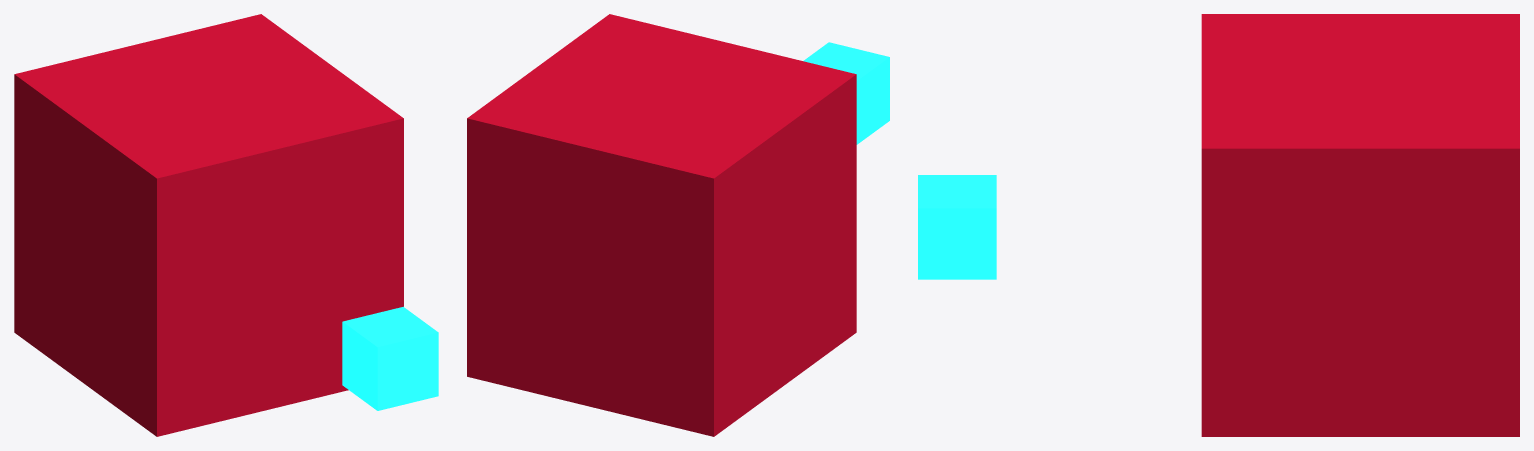
File: animated_cube.glb
The picture shows the model from 3 angles, left to right: view 1: azimuth 30°, elevation 25°; view 2: azimuth 150°, elevation 25°; view 3: azimuth 270°, elevation 25°; orthographic projection. The views are drawn at different scales.
Parts seen in each view (by area): view 1: Cube, Cube.001; view 2: Cube, Cube.001; view 3: Cube, Cube.001.
Part boxes in pixels (<box>): Cube: <box>14,14,403,436</box>; Cube.001: <box>342,306,438,410</box>; Cube: <box>467,14,856,436</box>; Cube.001: <box>803,42,889,144</box>; Cube: <box>1201,14,1519,436</box>; Cube.001: <box>918,175,996,279</box>.
Size of the model in its own units: 2 by 2 by 3.78.
